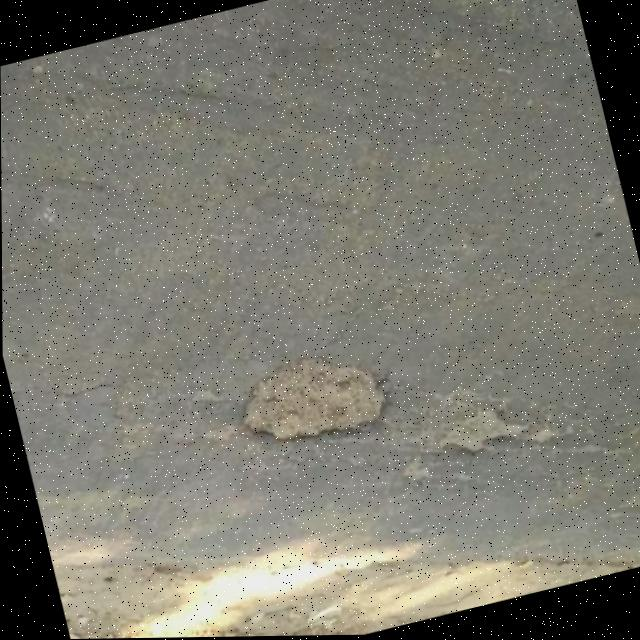Pothole: (225, 339, 396, 466), (429, 399, 533, 468)
